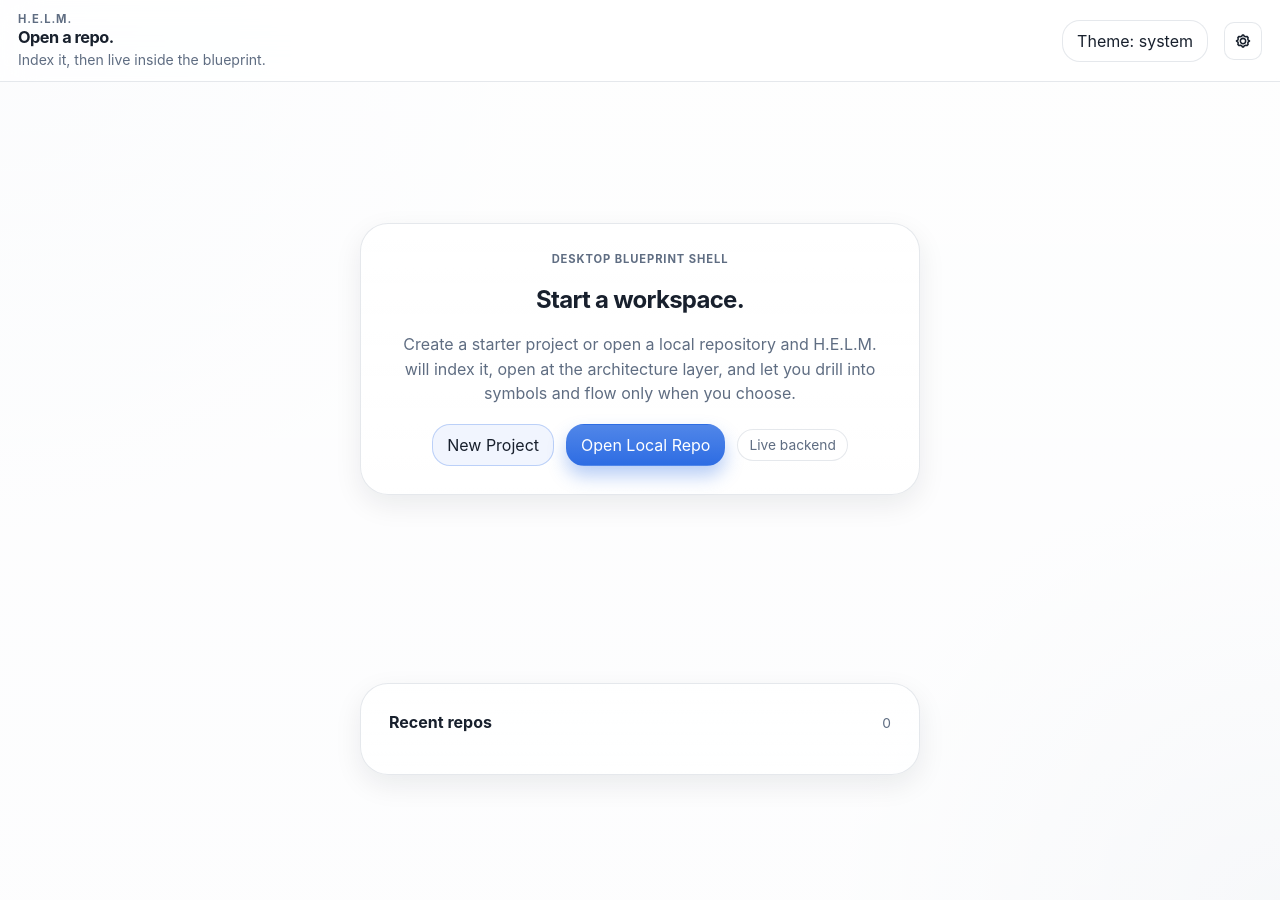
welcome flow › opens a repo and navigates into indexing
Click the button "Open Local Repo": [646, 445] box [566,424,725,466]
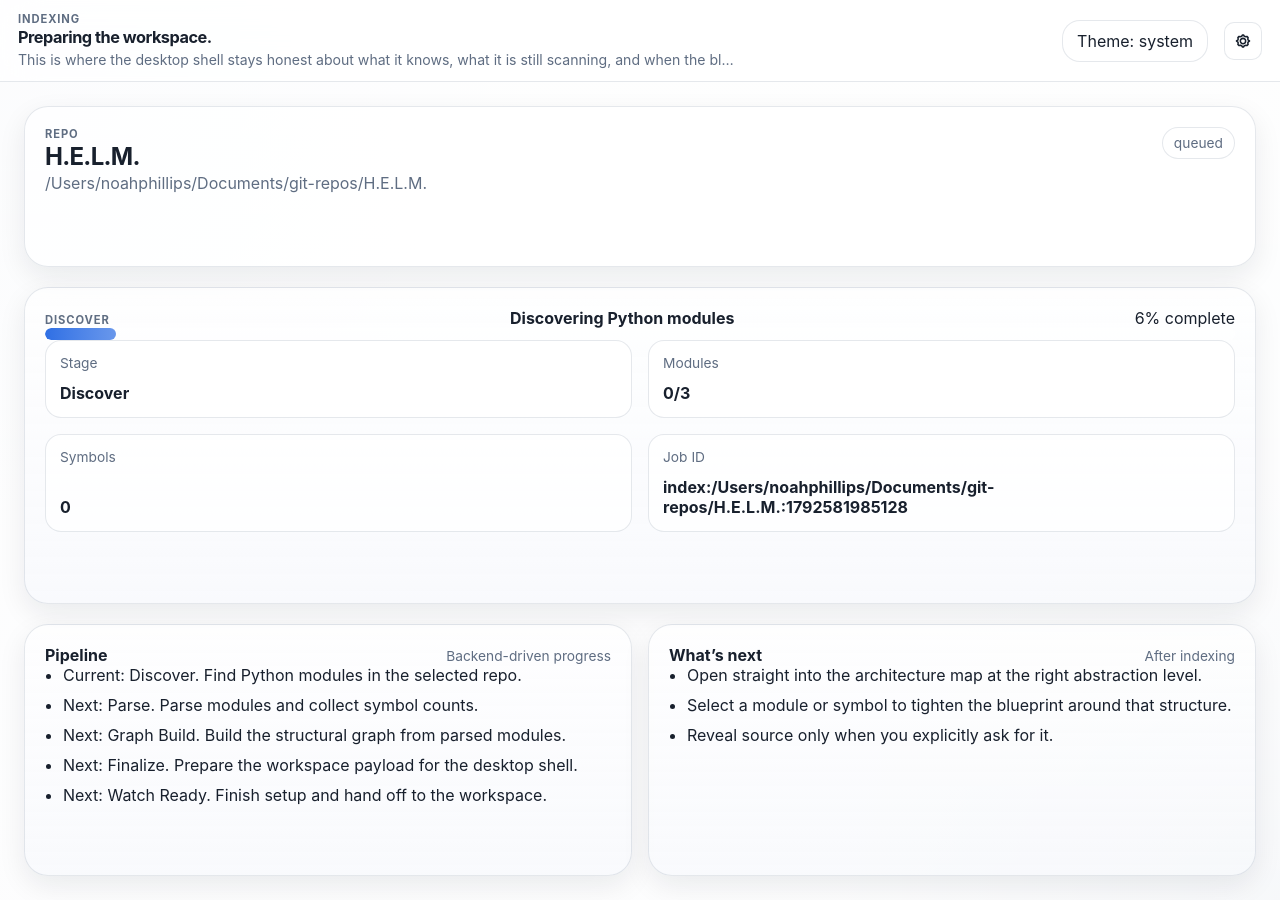
Expected: the heading "Preparing the workspace." is shown, [18,27,212,47]
Expected: the heading "Discovering Python modules" is shown, [510,308,734,328]
Expected: the text "Job ID" is shown, [663,449,705,465]
